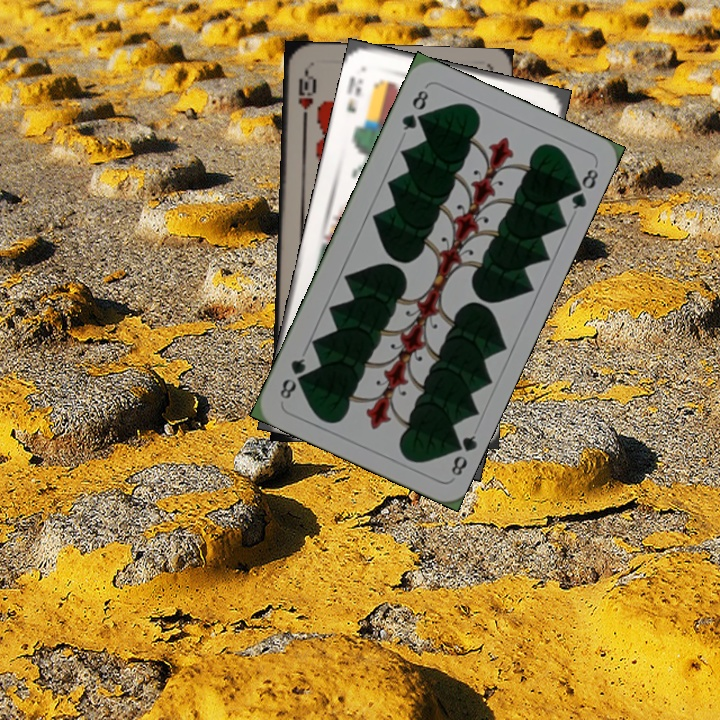EK: (342, 72, 366, 116)
G8: (445, 431, 480, 479), (397, 86, 431, 133)
H10: (294, 66, 318, 125)
